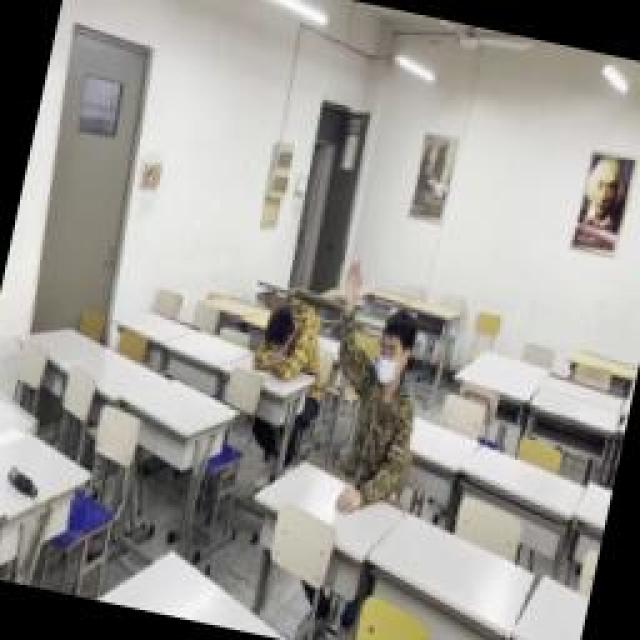sleep: (250, 305, 322, 383)
study: (298, 255, 442, 517)
